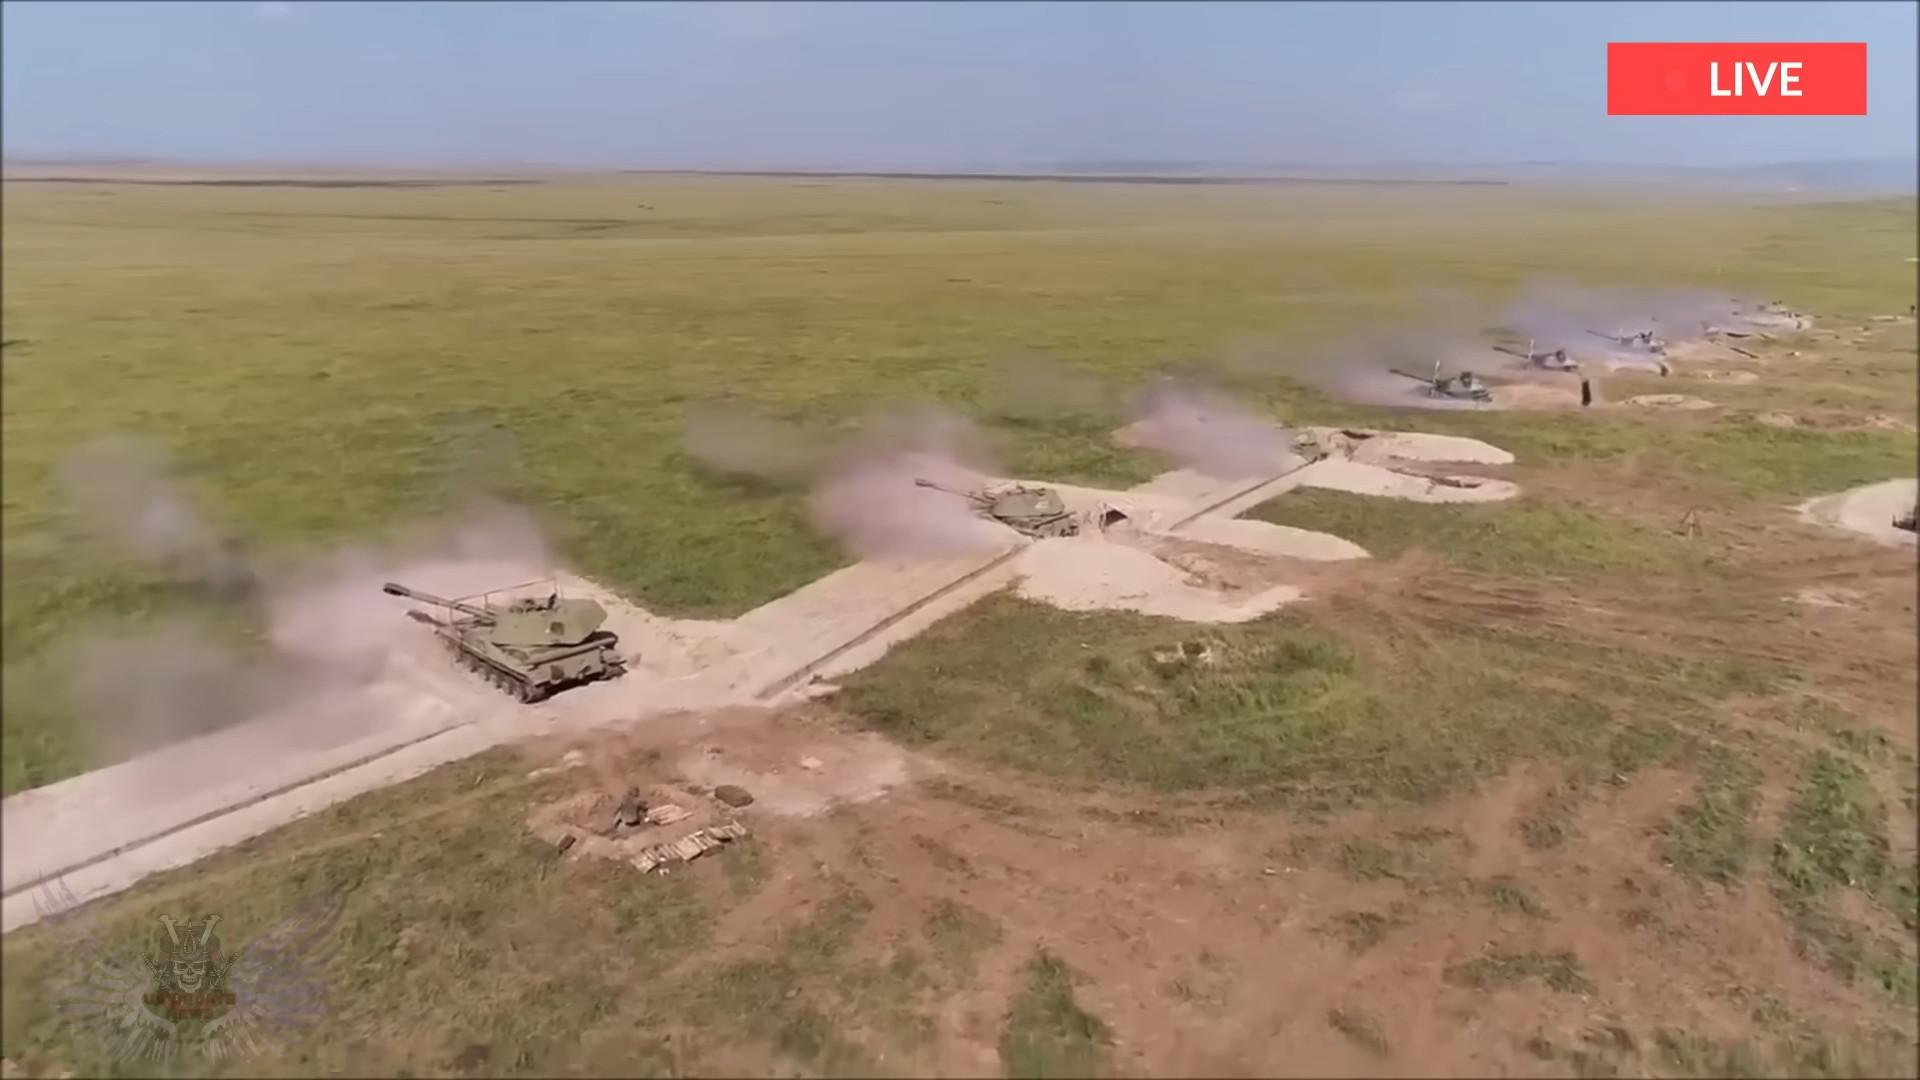tank: (384, 582, 628, 703), (915, 479, 1080, 542)
